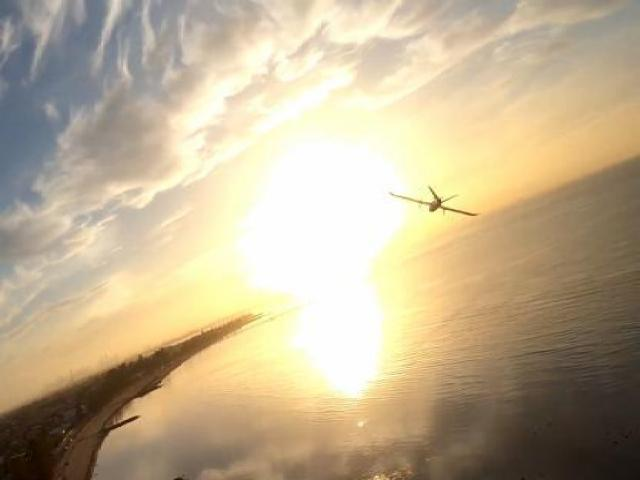uav: (383, 188, 480, 223)
